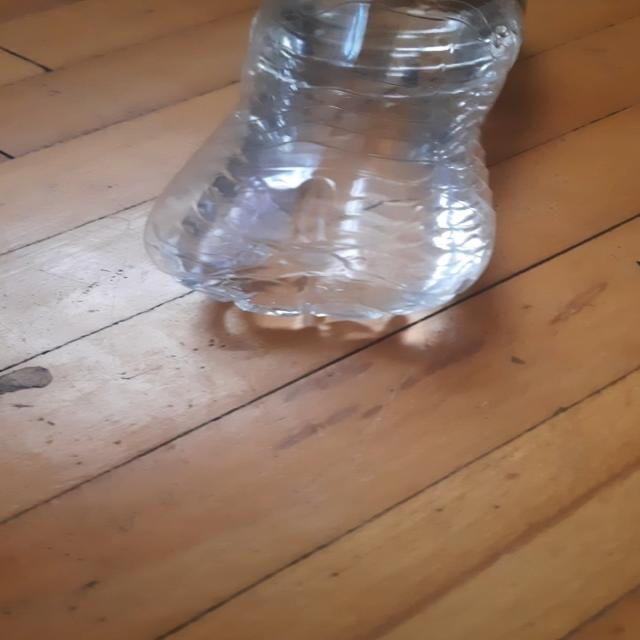Plastic: (143, 0, 526, 338)
